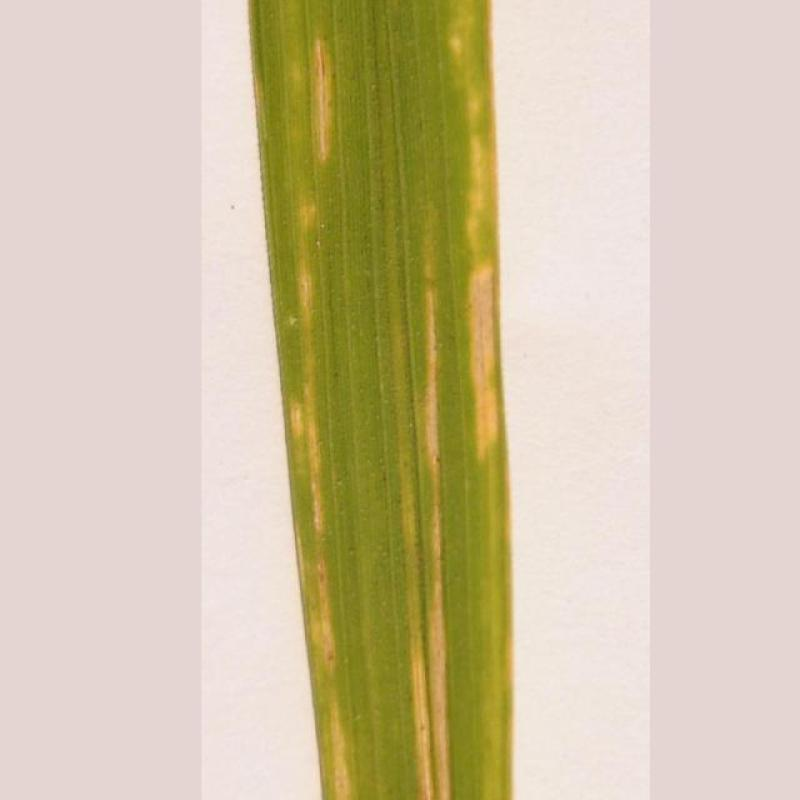Bacterial_Leaf_Blight: (228, 17, 563, 800)
